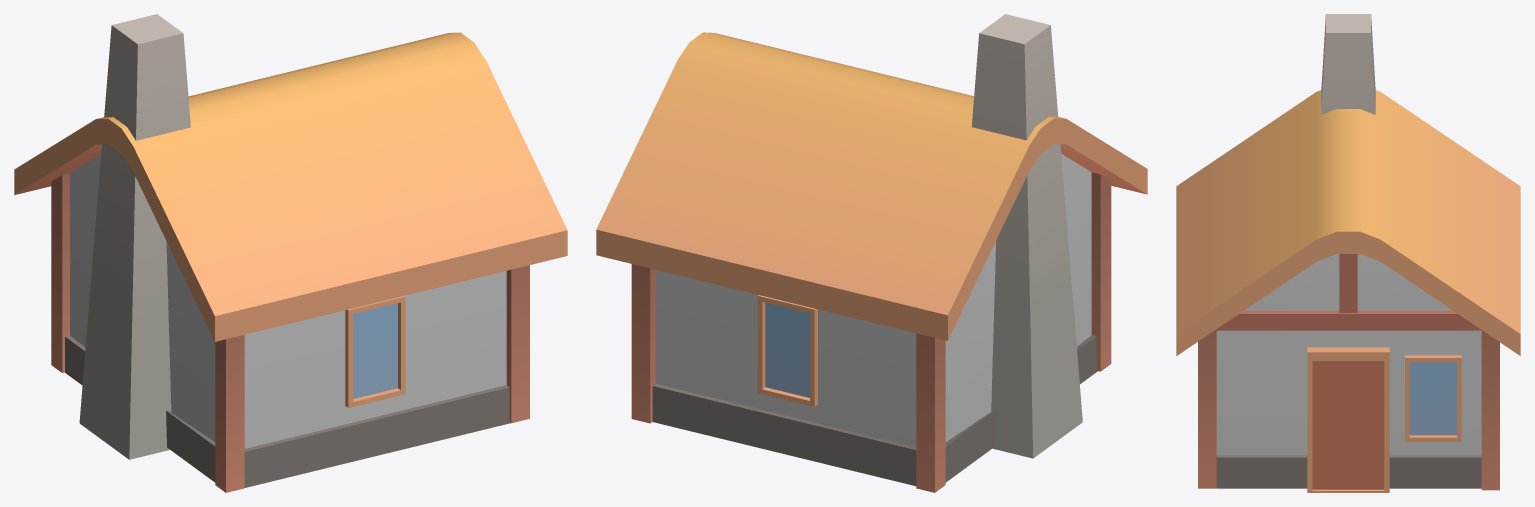
The model's file is [OBJ]Casa_restaurada.fbx.
3 views of the same model, side by side, from view 1: azimuth 30°, elevation 25°; view 2: azimuth 150°, elevation 25°; view 3: azimuth 270°, elevation 25° (orthographic). The views are drawn at different scales.
Parts seen in each view (by area): view 1: [OBJ]Casa_restaurada; view 2: [OBJ]Casa_restaurada; view 3: [OBJ]Casa_restaurada.
Part boxes in pixels (x1,y1,x2,y2): [OBJ]Casa_restaurada: (14,14,567,492); [OBJ]Casa_restaurada: (596,14,1147,492); [OBJ]Casa_restaurada: (1176,14,1520,492).
Bounding box in the file's own units: 253 × 268 × 242.
